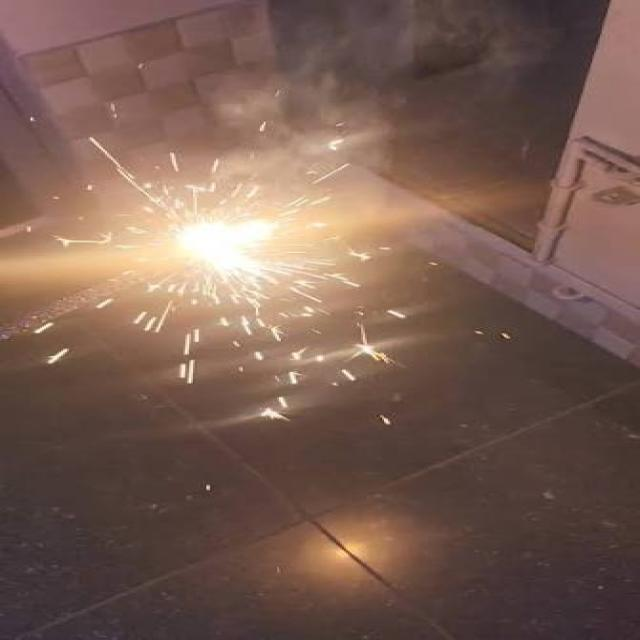fire: (177, 220, 279, 274)
